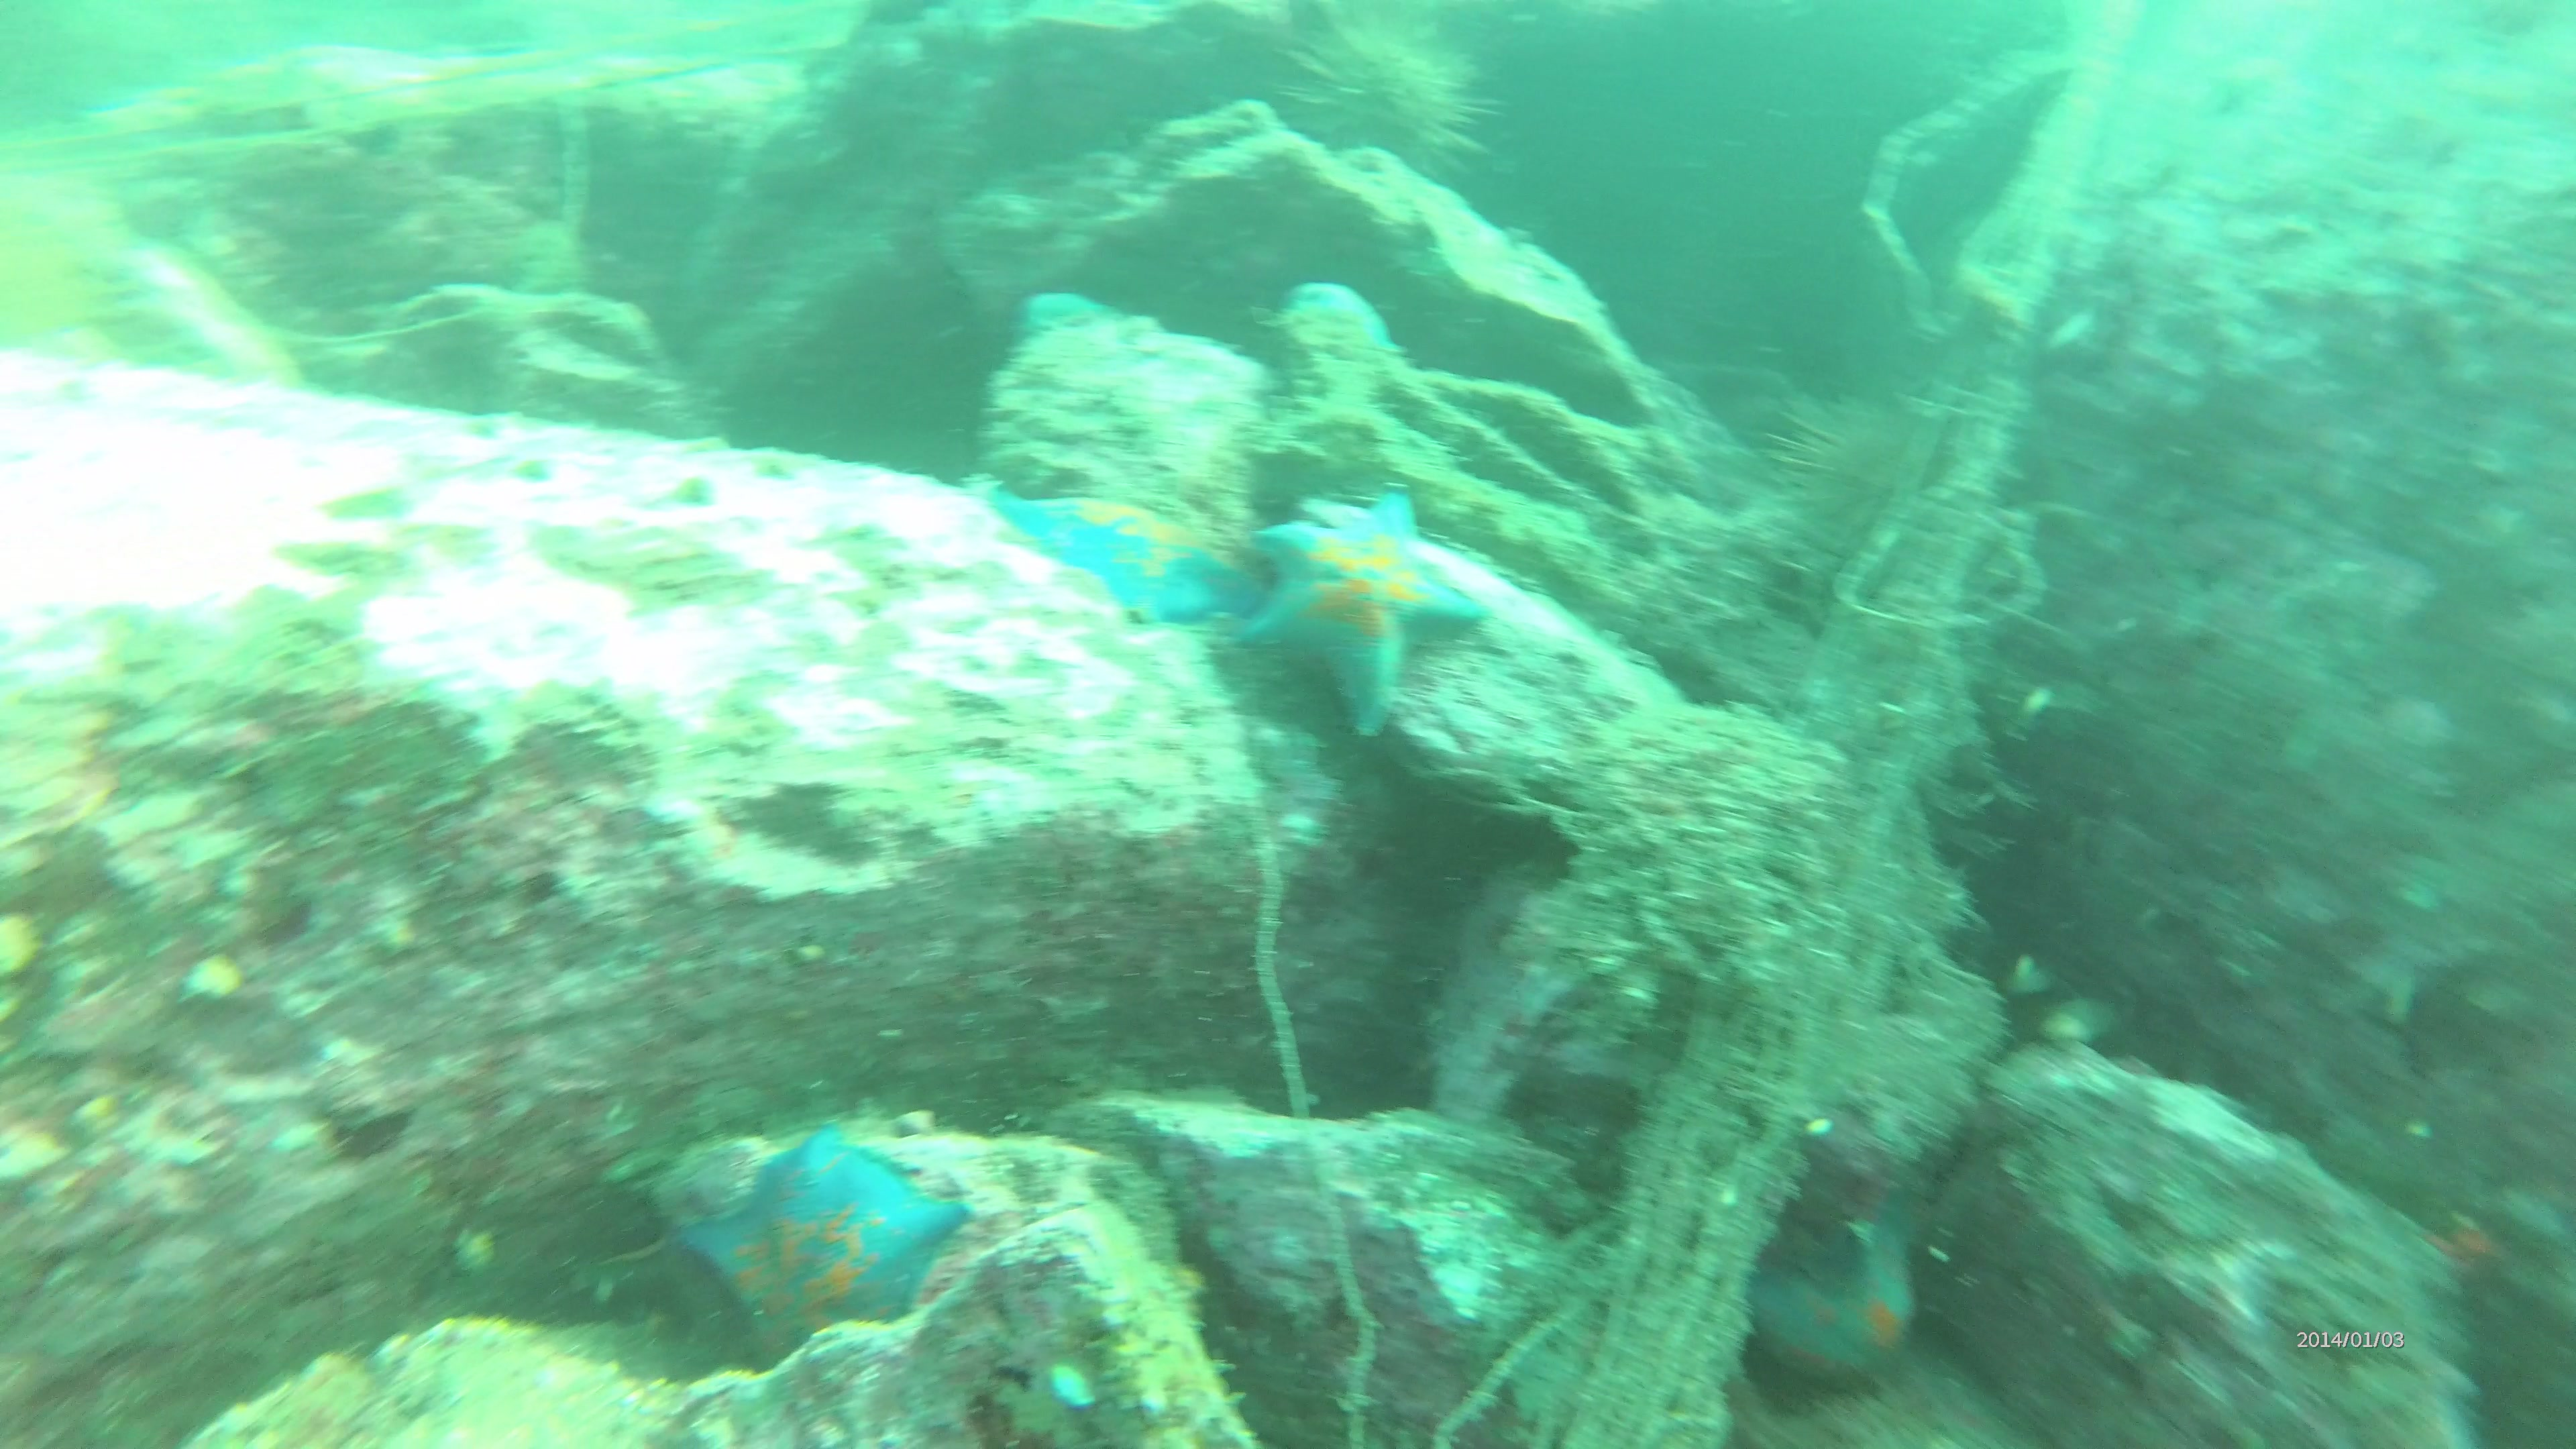echinus: (1260, 5, 1509, 193), (1764, 380, 1930, 538)
starfish: (662, 1131, 962, 1368), (1237, 487, 1477, 745), (962, 464, 1272, 633), (1737, 1180, 1932, 1399)
